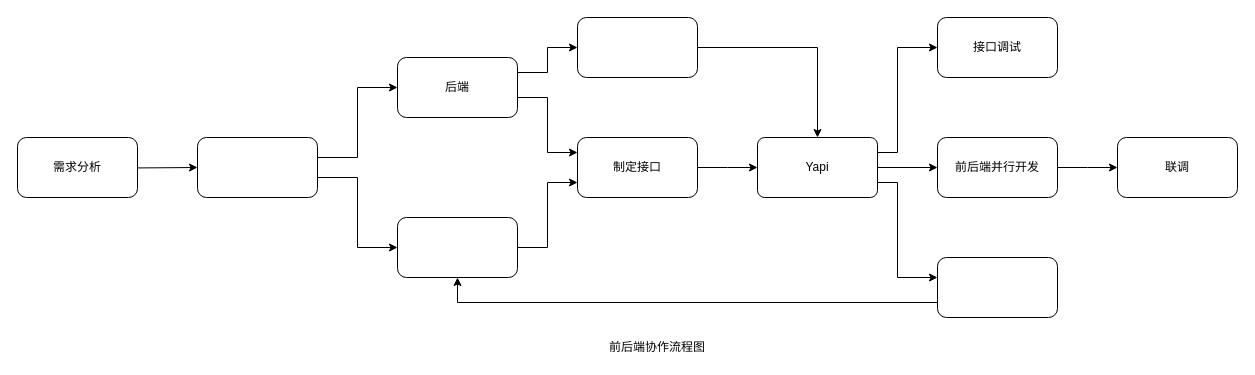
The diagram is 1255 pixels wide and 375 high, and some of its shapes have lost their labels. The shapes that lost their labels are listed below. From the top down, each one's centre as x and y in pixels, then its label:
At (637,47): "swagger数据同步".
At (257,167): "系统设计".
At (457,247): "前端".
At (997,287): "mock".
